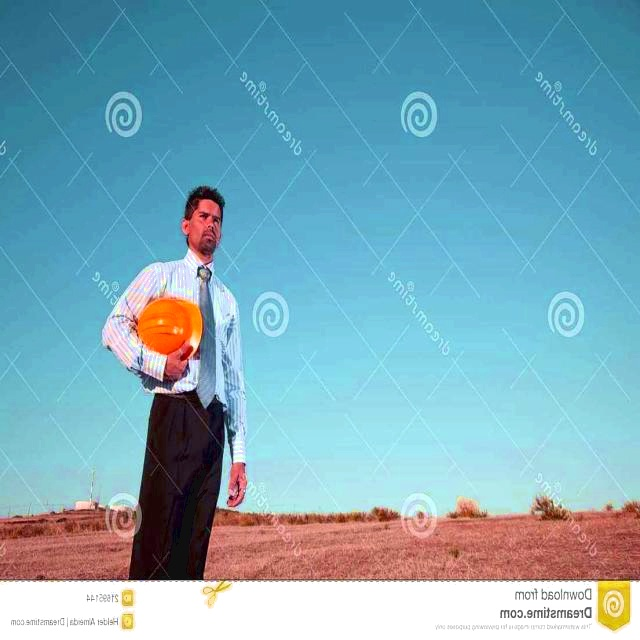Sin_Casco_Mascarrilla: (179, 186, 225, 254)
